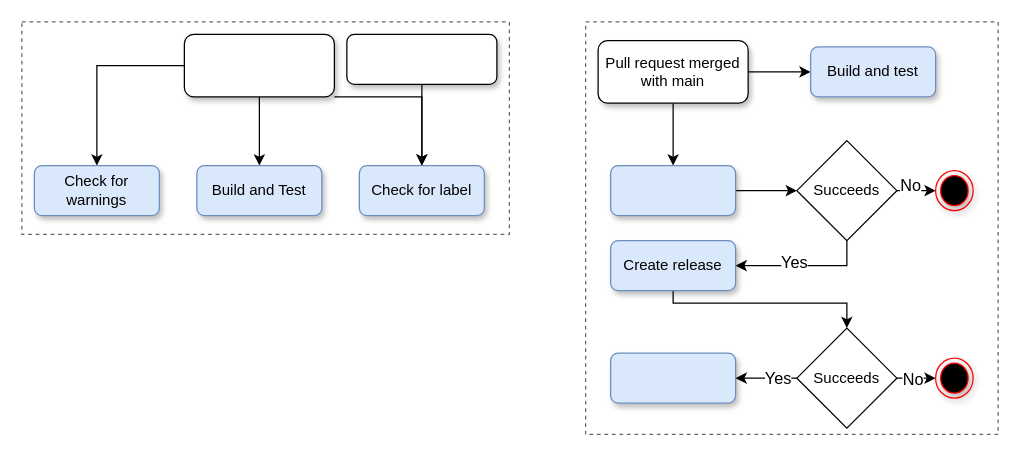
This 1020x456 diagram has some shape labels left out. The centre of each missing label's shape, as x and y in pixels:
"Added label/removed label" belongs at point 422,60.
"Create git tag" belongs at point 673,191.
"Deploz to azure" belongs at point 673,379.
"Pull request created/ Pushed to pull request" belongs at point 260,67.
